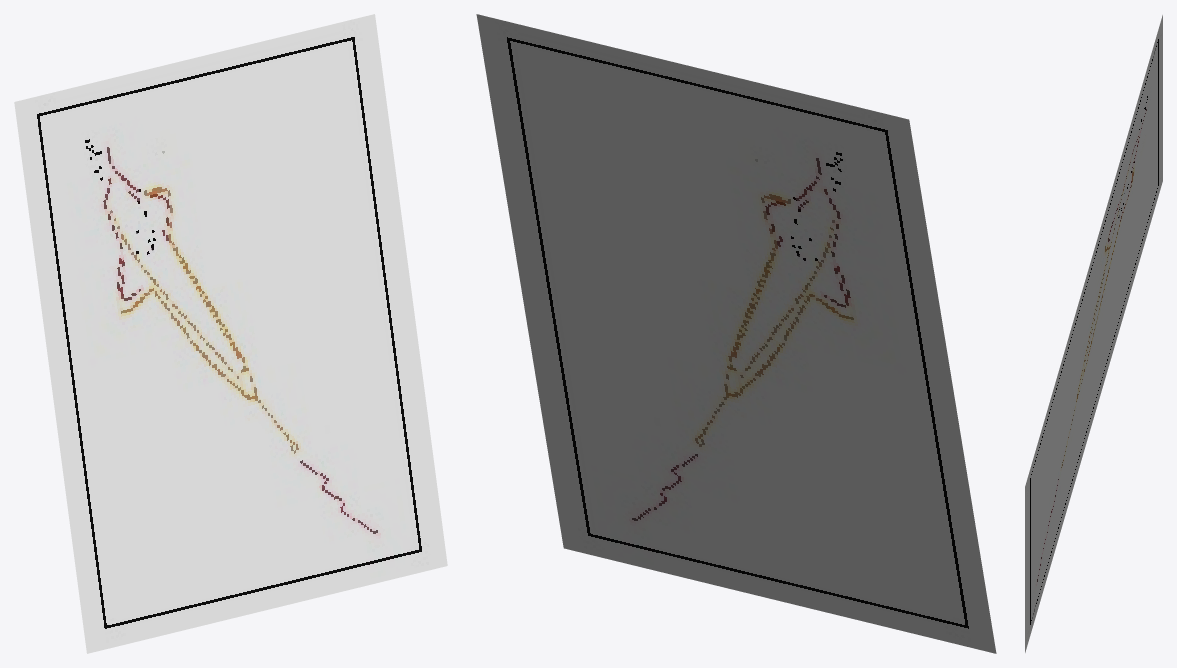
The model's file is Spacycle quote.glb.
The picture shows the model from 3 angles, left to right: view 1: azimuth 30°, elevation 25°; view 2: azimuth 150°, elevation 25°; view 3: azimuth 270°, elevation 25°; orthographic projection. The views are drawn at different scales.
Visible parts, largest first — view 1: mesh_id29; view 2: mesh_id29; view 3: mesh_id29.
Part boxes in pixels (bbox=[...]): mesh_id29: bbox=[14, 14, 447, 653]; mesh_id29: bbox=[476, 14, 996, 653]; mesh_id29: bbox=[1025, 15, 1162, 652].
Bounding box in the file's own units: 0.142 × 0.1876 × 0.0496.
1 material, 1 textured.
